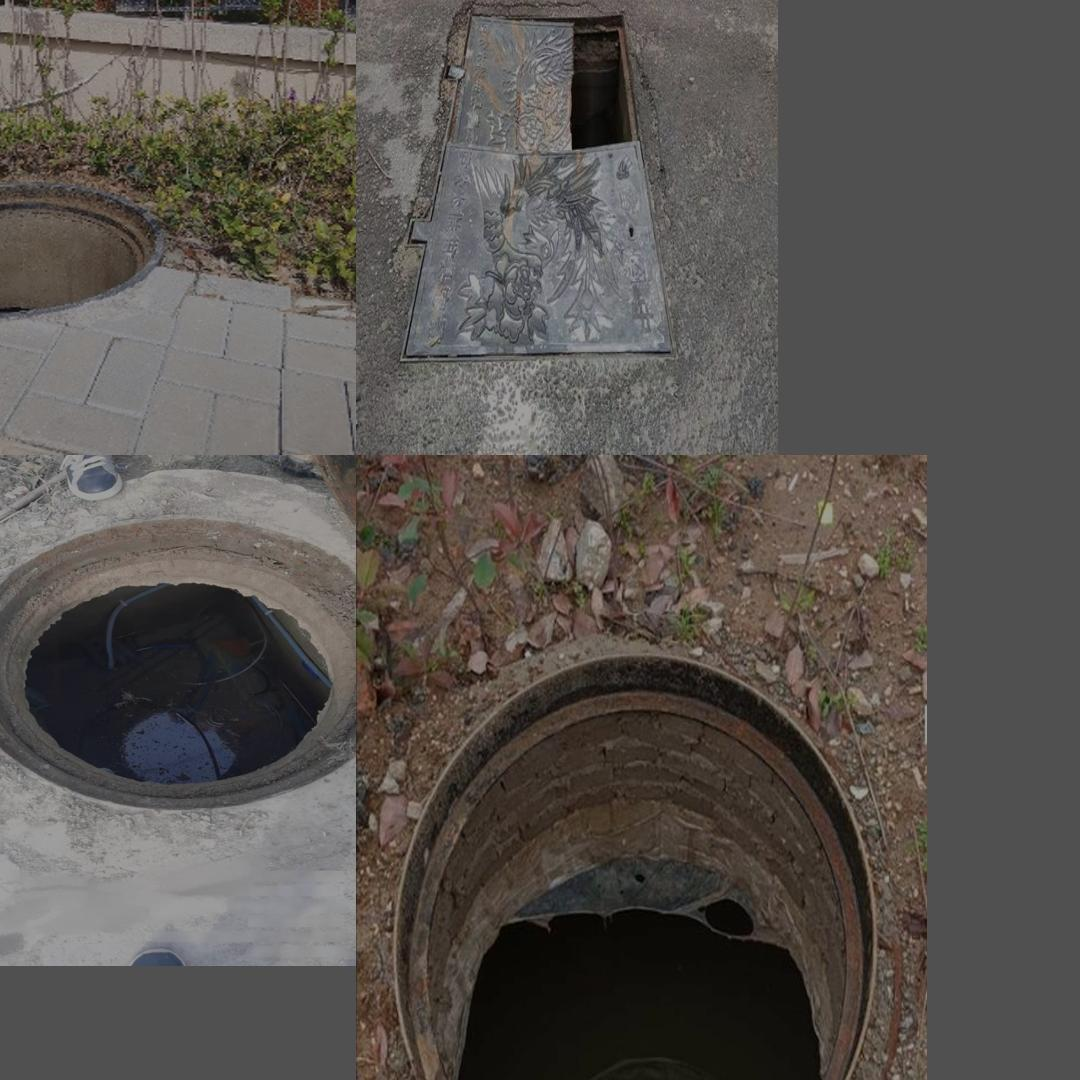lose: (389, 637, 884, 1080), (0, 487, 347, 852), (386, 0, 681, 382), (0, 180, 160, 318)
